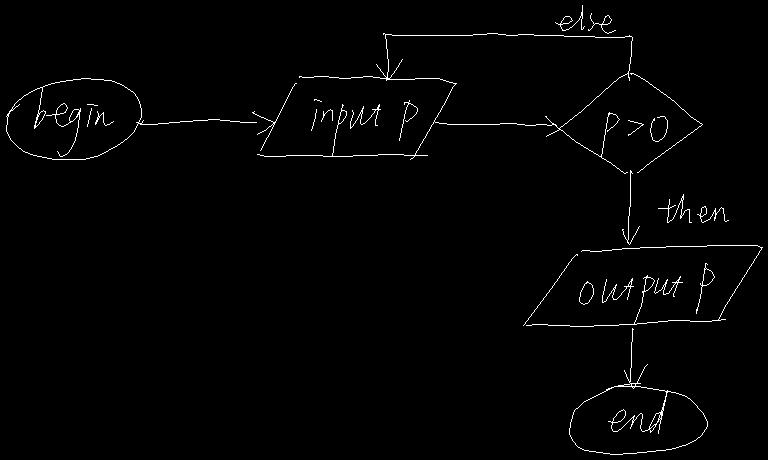arrow: (376, 33, 632, 80), (136, 111, 274, 134), (435, 116, 559, 136), (624, 328, 647, 388), (622, 170, 639, 244)
data: (523, 245, 762, 326), (257, 76, 456, 159)
decision: (559, 73, 702, 173)
terminator: (6, 78, 141, 159), (569, 383, 707, 454)
text: (579, 263, 714, 323), (311, 99, 417, 156), (34, 88, 113, 156), (601, 112, 667, 157), (608, 390, 667, 433), (658, 194, 728, 222), (555, 5, 615, 33)
